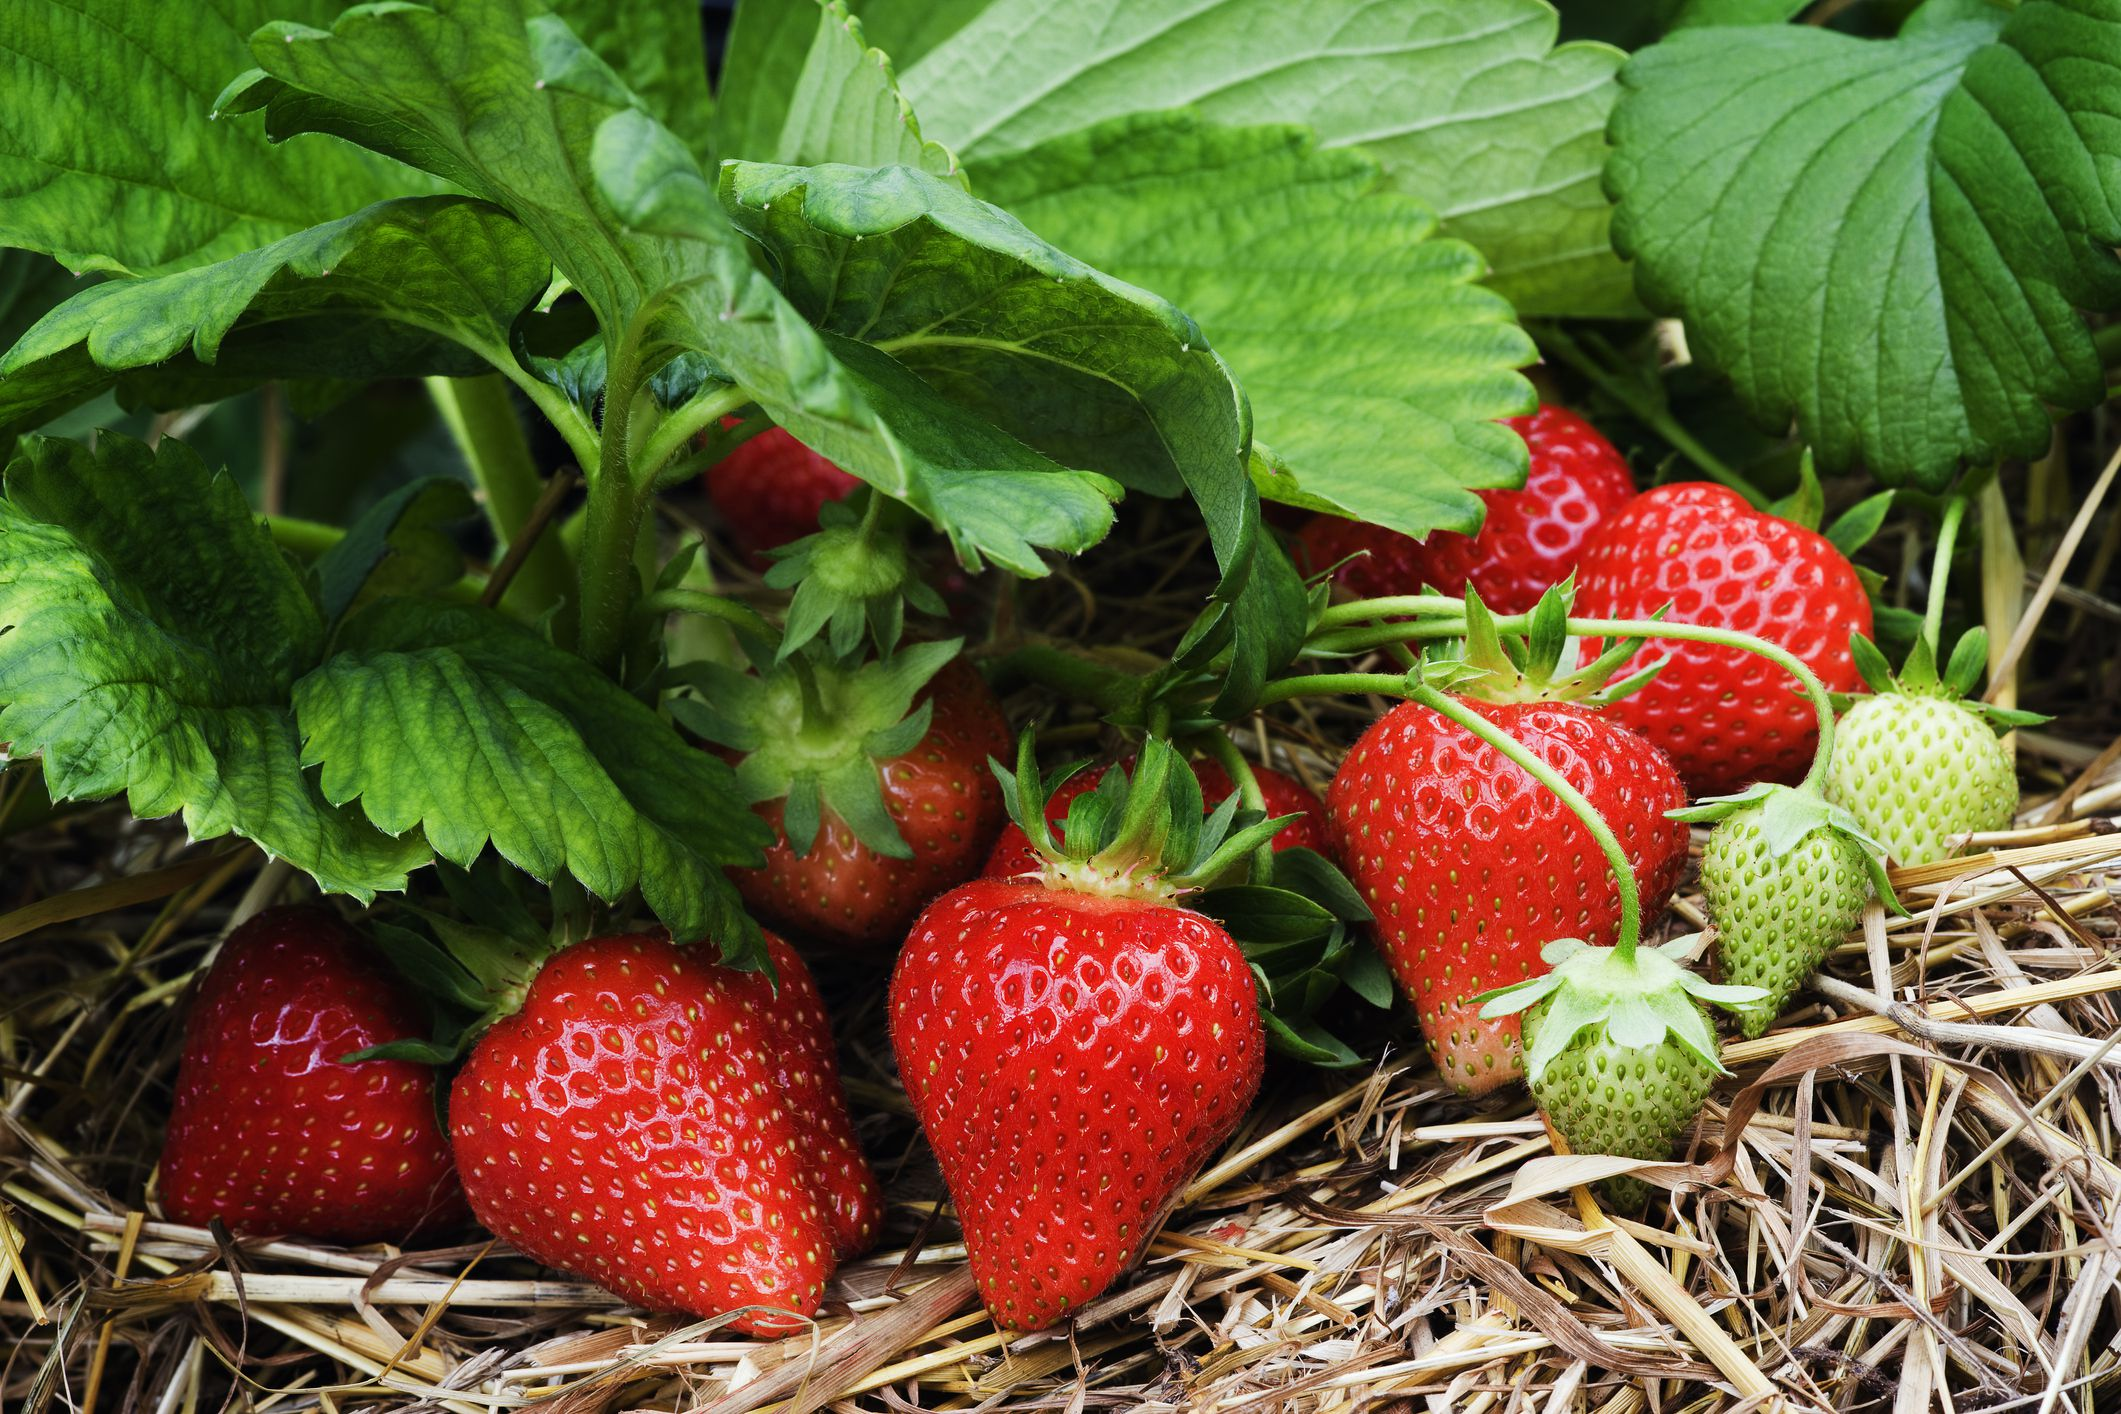ripe_strawberry: (443, 914, 884, 1340), (884, 865, 1275, 1341), (1326, 675, 1696, 1105), (151, 898, 450, 1248), (1567, 477, 1881, 800), (1280, 399, 1638, 672), (720, 636, 1016, 944), (983, 753, 1341, 882)
unripe_strawberry: (1513, 961, 1722, 1220), (1695, 780, 1873, 1037), (1821, 682, 2025, 870)
